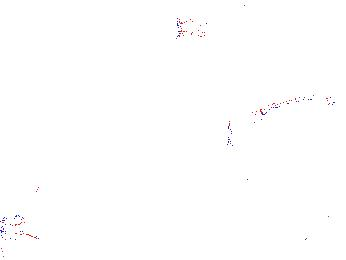glassfish: (249, 84, 346, 132)
redtail glassfish: (173, 11, 226, 45), (224, 121, 244, 158)
siberian prawn: (1, 212, 29, 239)
